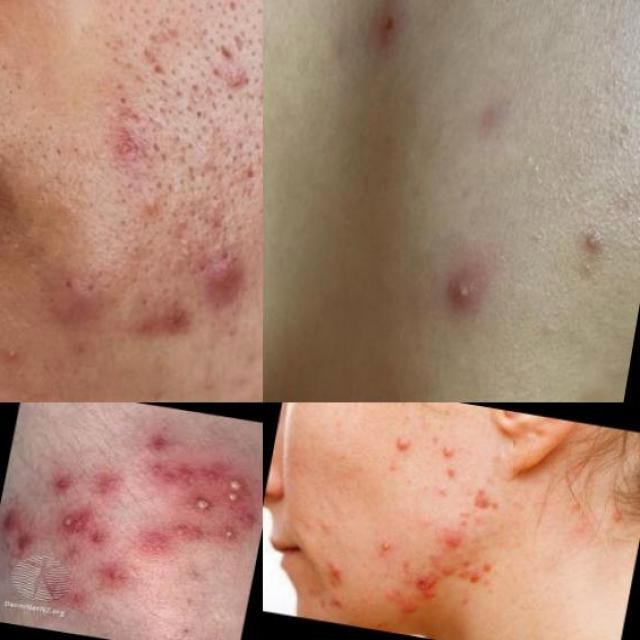Pimples: (127, 275, 210, 358), (39, 277, 114, 355), (191, 248, 260, 327), (93, 120, 166, 184), (0, 491, 49, 560), (398, 558, 452, 608), (384, 420, 426, 476), (144, 418, 186, 466), (444, 272, 484, 322), (471, 478, 514, 524), (140, 183, 176, 234), (81, 461, 122, 501), (590, 496, 632, 534), (573, 227, 616, 264), (435, 436, 475, 468), (0, 334, 25, 384), (106, 560, 140, 593), (371, 532, 403, 566), (192, 491, 218, 519), (170, 522, 208, 540), (218, 522, 242, 546), (58, 510, 80, 534), (228, 472, 250, 493), (224, 486, 246, 504), (586, 236, 600, 246)
